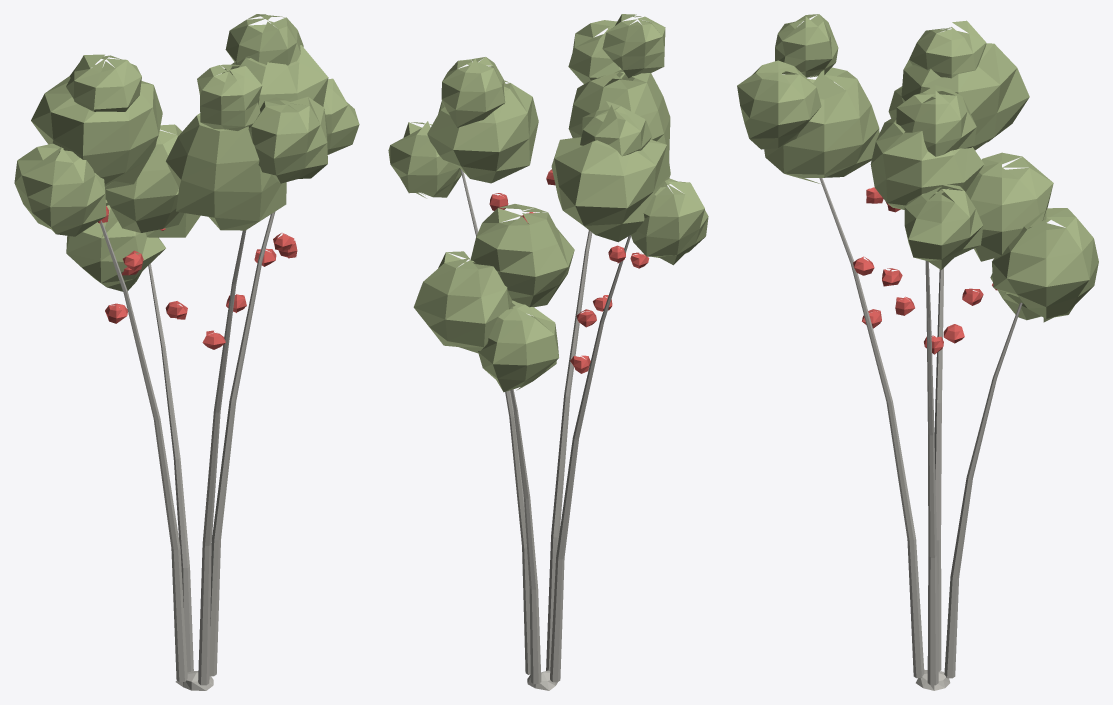
The model's file is temperate-forest-ecology-rowan-multi-stem-07bd63fd__3797.glb.
3 views of the same model, side by side, from view 1: azimuth 30°, elevation 25°; view 2: azimuth 150°, elevation 25°; view 3: azimuth 270°, elevation 25° (orthographic). The views are drawn at different scales.
Visible parts, largest first — view 1: rowan-multi-stem; view 2: rowan-multi-stem; view 3: rowan-multi-stem.
Part boxes in pixels (x1=…): rowan-multi-stem: x1=14, y1=14, x2=359, y2=690; rowan-multi-stem: x1=388, y1=14, x2=708, y2=690; rowan-multi-stem: x1=737, y1=14, x2=1098, y2=690.
Bounding box in the file's own units: 5.12 × 9.83 × 4.95.
